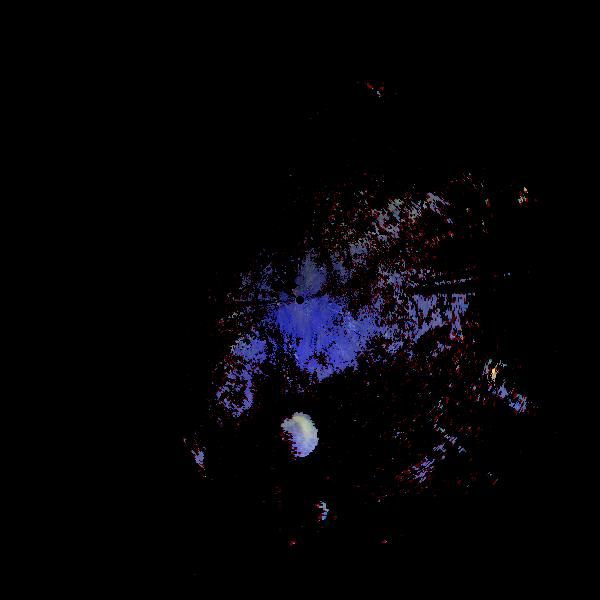roost: (270, 413, 318, 461), (309, 501, 330, 522)
